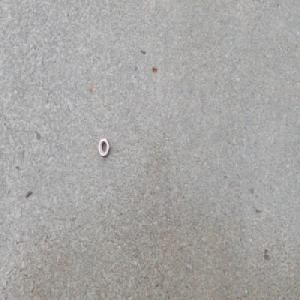Nut: (97, 137, 110, 157)
